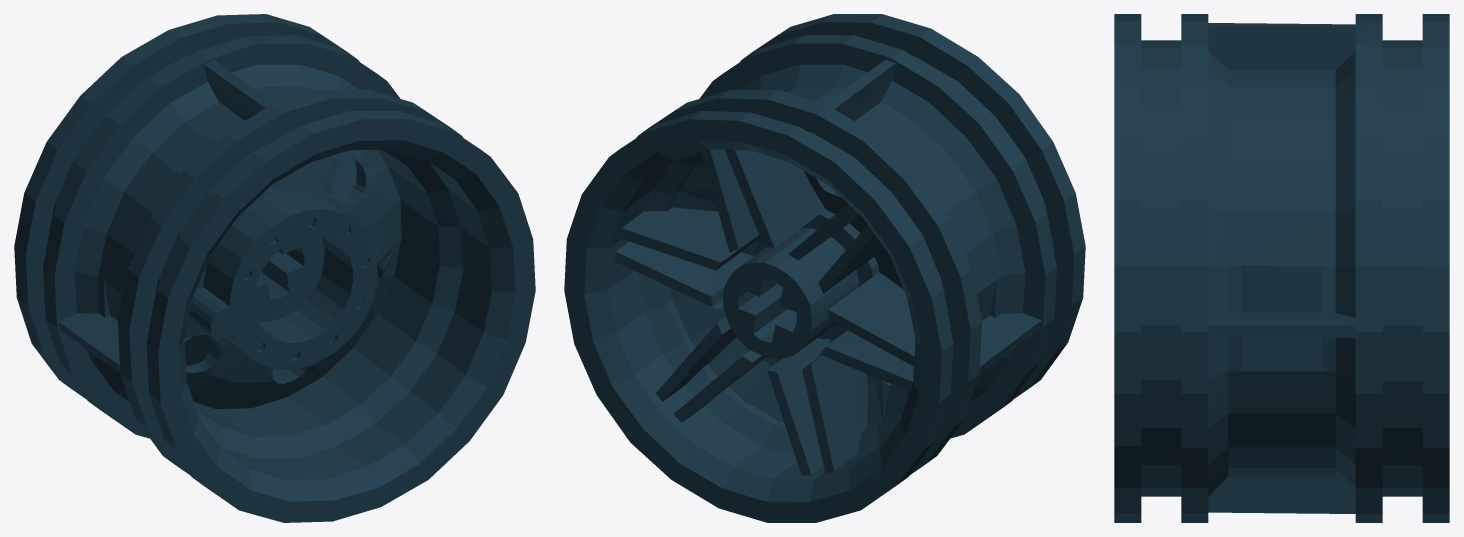
The model's file is bobb3e_tire.dae.
3 views of the same model, side by side, from view 1: azimuth 30°, elevation 25°; view 2: azimuth 150°, elevation 25°; view 3: azimuth 270°, elevation 25° (orthographic). The views are drawn at different scales.
Visible parts, largest first — view 1: Wheel_Rim_20_x_30_with_6_Spokes_and_External_Ribs__04; view 2: Wheel_Rim_20_x_30_with_6_Spokes_and_External_Ribs__04; view 3: Wheel_Rim_20_x_30_with_6_Spokes_and_External_Ribs__04.
Part boxes in pixels (bbox=[...]): Wheel_Rim_20_x_30_with_6_Spokes_and_External_Ribs__04: bbox=[14, 14, 535, 522]; Wheel_Rim_20_x_30_with_6_Spokes_and_External_Ribs__04: bbox=[564, 14, 1085, 522]; Wheel_Rim_20_x_30_with_6_Spokes_and_External_Ribs__04: bbox=[1114, 14, 1449, 522].
Bounding box in the file's own units: 0.303 × 0.2 × 0.304.
